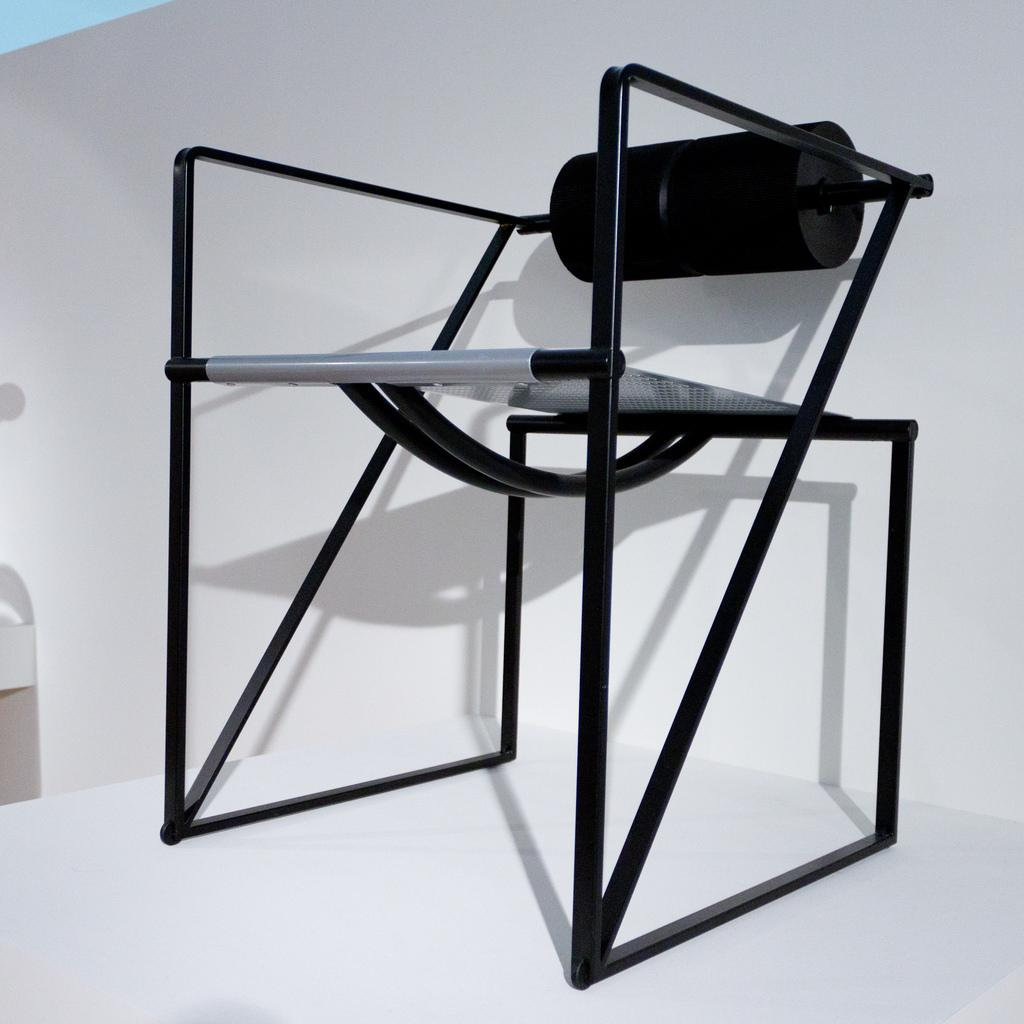Chair: (123, 0, 972, 929)
